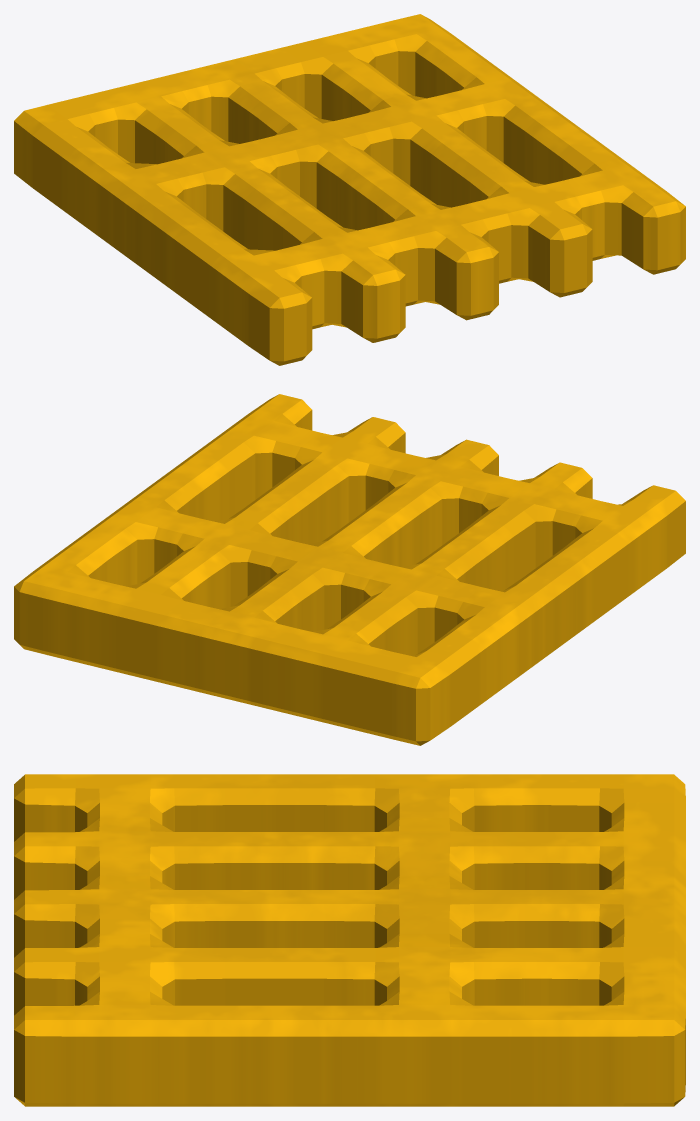
The model's file is Gate_02.fbx.
3 views of the same model, one above another, from view 1: azimuth 30°, elevation 25°; view 2: azimuth 150°, elevation 25°; view 3: azimuth 270°, elevation 25° (orthographic). The views are drawn at different scales.
Parts seen in each view (by area): view 1: Gate_02; view 2: Gate_02; view 3: Gate_02.
Part boxes in pixels (left/top/right/bottom): Gate_02: left=14, top=14, right=685, bottom=365; Gate_02: left=14, top=394, right=685, bottom=745; Gate_02: left=14, top=774, right=685, bottom=1106.
Bounding box in the file's own units: 3.18 × 0.5 × 3.49.
1 material, 1 textured.
